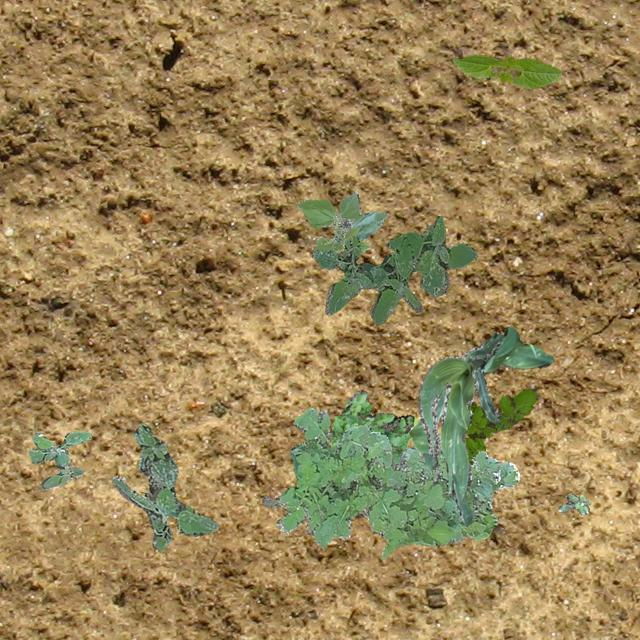crop: (408, 326, 552, 468), (416, 332, 502, 524), (294, 192, 386, 252), (452, 54, 560, 88)
weed: (276, 407, 518, 558), (312, 214, 476, 324), (110, 422, 218, 550), (330, 390, 416, 464), (464, 388, 540, 463), (260, 431, 330, 506), (27, 431, 90, 488), (558, 492, 588, 514)
